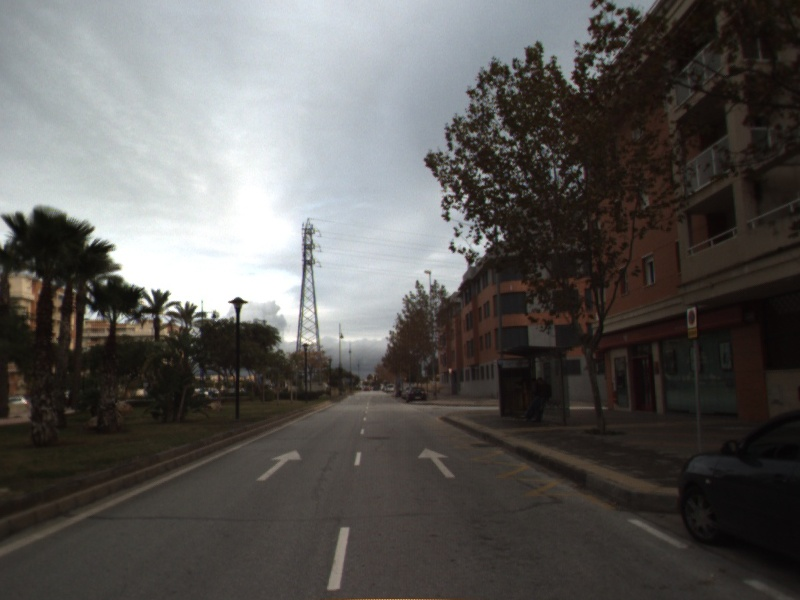STRAIGHT: (255, 447, 304, 483), (416, 446, 457, 479)
